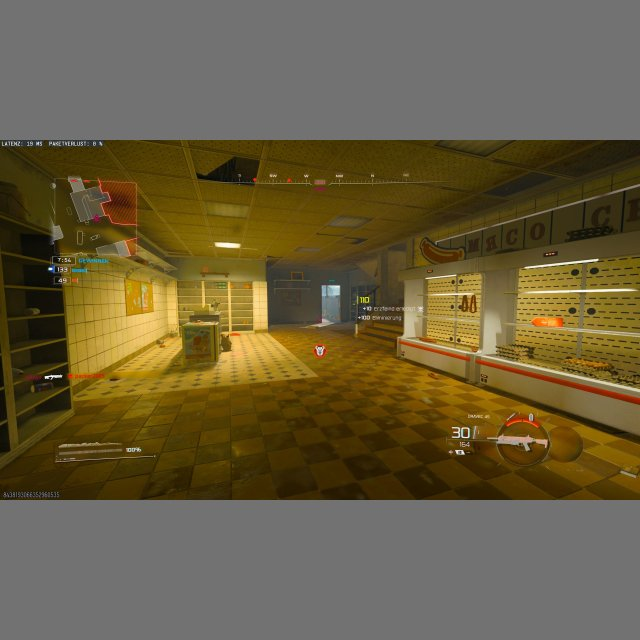player: (209, 299, 220, 312)
